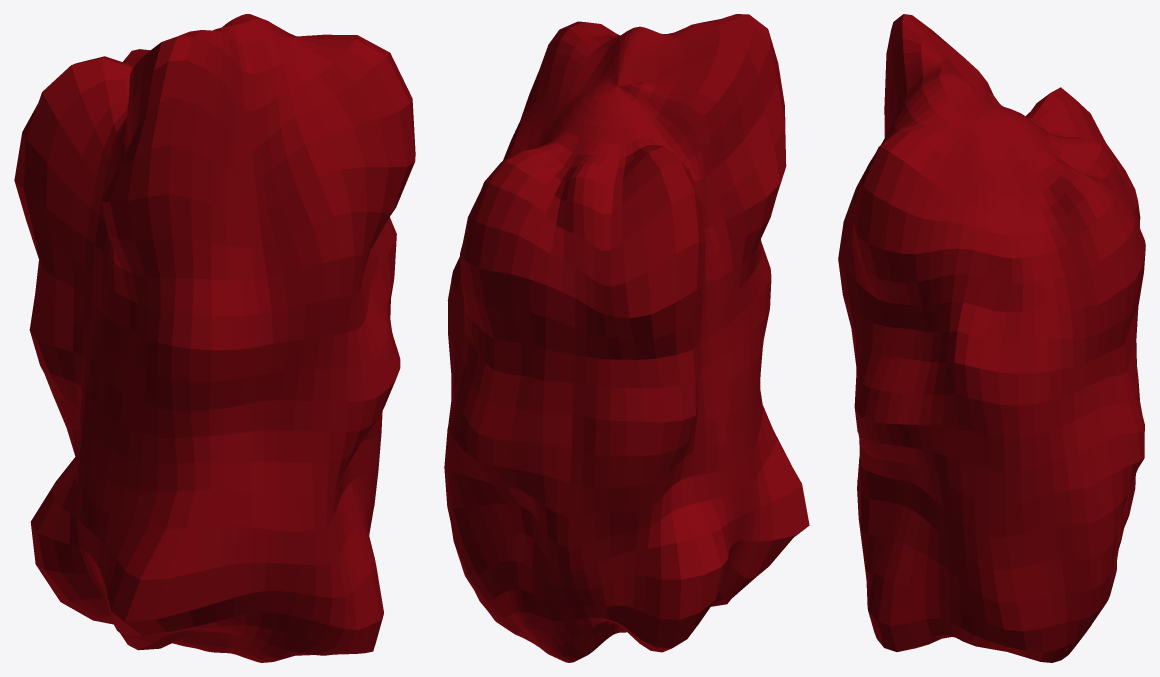
File: Screen pillar corruption.fbx
3 renders of one model, left to right at view 1: azimuth 30°, elevation 25°; view 2: azimuth 150°, elevation 25°; view 3: azimuth 270°, elevation 25°, orthographic. The views are drawn at different scales.
Visible parts, largest first — view 1: Sphere.001; view 2: Sphere.001; view 3: Sphere.001.
Boxes of the visible parts, box(x1,y1,x2,y2) form: Sphere.001: box(14, 14, 415, 662); Sphere.001: box(444, 14, 809, 662); Sphere.001: box(838, 14, 1145, 662).
Size of the model in its own units: 966 by 1967 by 926.
